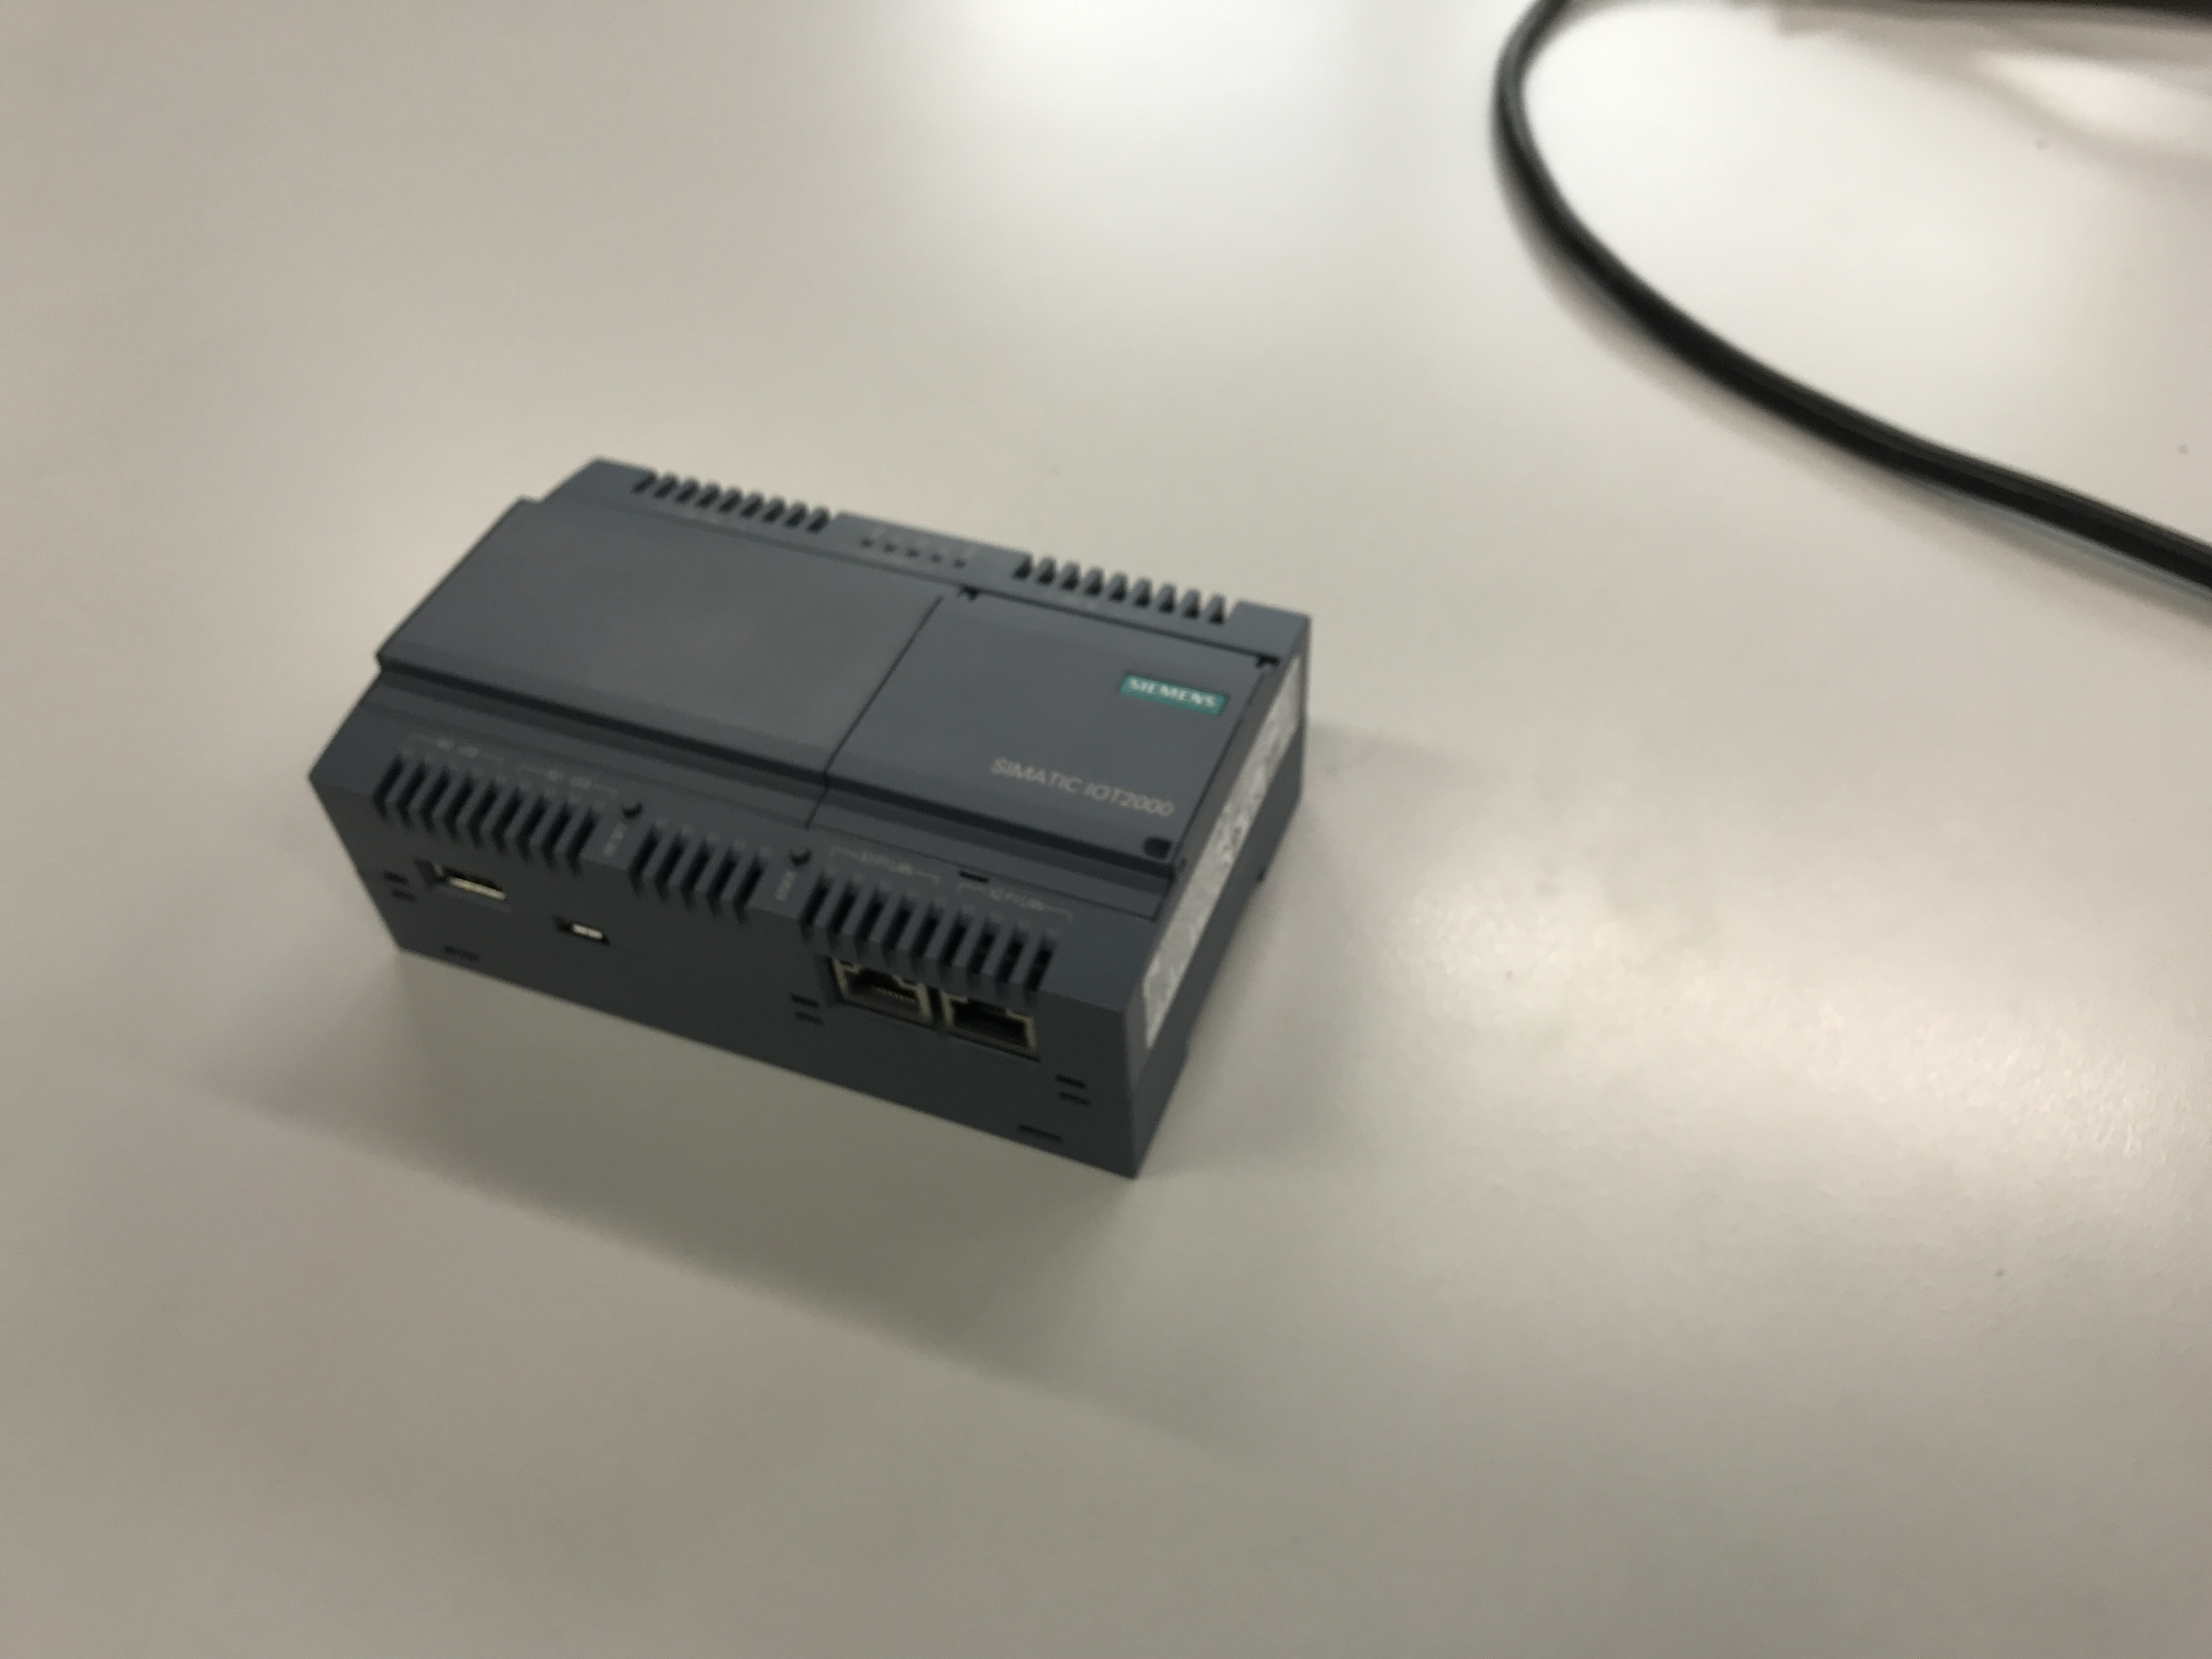device: (303, 457, 1313, 1183)
